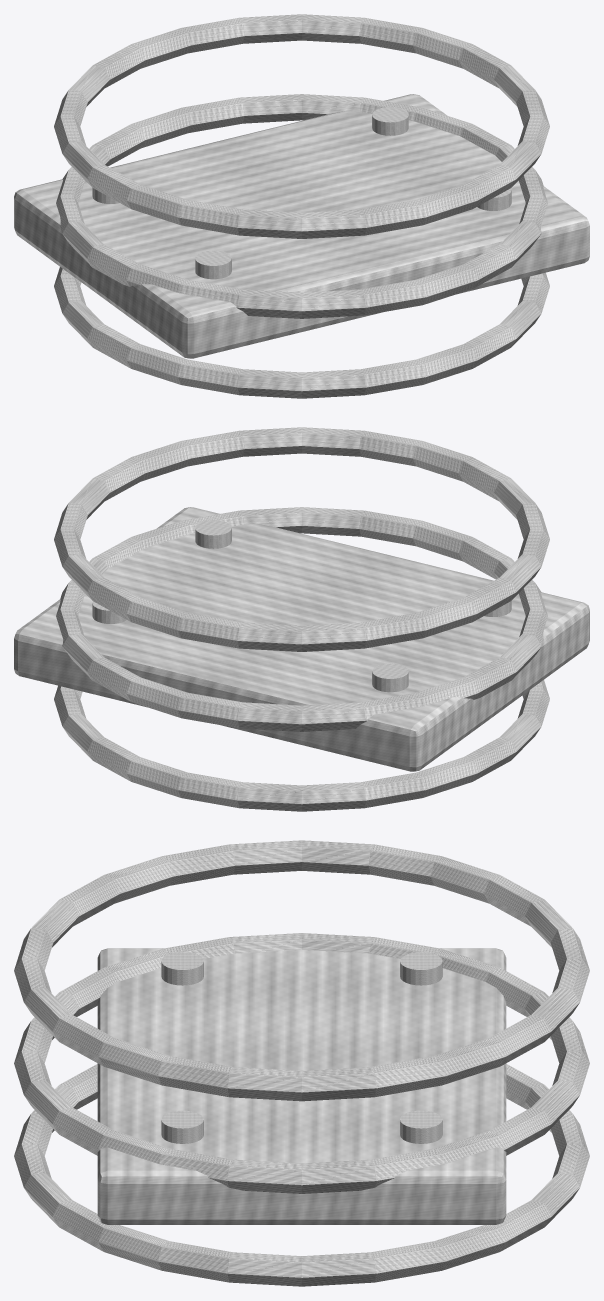
Rendered from item-ficsit-coupon_variant_c.glb.
The picture shows the model from 3 angles, top to bottom: view 1: azimuth 30°, elevation 25°; view 2: azimuth 150°, elevation 25°; view 3: azimuth 270°, elevation 25°; orthographic projection. The views are drawn at different scales.
Parts seen in each view (by area): view 1: Flat material sheet.002, Variant collar.002, Variant collar.001, Variant collar, Sheet fastener.008, Sheet fastener.011; view 2: Flat material sheet.002, Variant collar.002, Variant collar.001, Variant collar, Sheet fastener.009, Sheet fastener.010; view 3: Flat material sheet.002, Variant collar.002, Variant collar.001, Variant collar, Sheet fastener.008, Sheet fastener.009, Sheet fastener.010, Sheet fastener.011.
Boxes of the visible parts, <box> form: Flat material sheet.002: <box>14,94,589,358</box>; Variant collar.002: <box>54,14,549,238</box>; Variant collar.001: <box>56,94,547,318</box>; Variant collar: <box>54,267,549,398</box>; Sheet fastener.008: <box>195,250,231,279</box>; Sheet fastener.011: <box>372,107,408,135</box>; Flat material sheet.002: <box>14,507,589,771</box>; Variant collar.002: <box>54,427,549,651</box>; Variant collar.001: <box>56,507,547,731</box>; Variant collar: <box>54,680,549,811</box>; Sheet fastener.009: <box>372,663,408,692</box>; Sheet fastener.010: <box>195,520,231,548</box>; Flat material sheet.002: <box>97,948,506,1224</box>; Variant collar.002: <box>14,840,589,1101</box>; Variant collar.001: <box>14,933,589,1193</box>; Variant collar: <box>14,1064,589,1286</box>; Sheet fastener.008: <box>161,952,203,985</box>; Sheet fastener.009: <box>400,952,442,985</box>; Sheet fastener.010: <box>161,1110,203,1143</box>; Sheet fastener.011: <box>400,1110,442,1143</box>.
Size of what is drawn, in the model's own units: 0.676 by 0.2712 by 0.676.
Materials: 3 (3 with a texture image).
